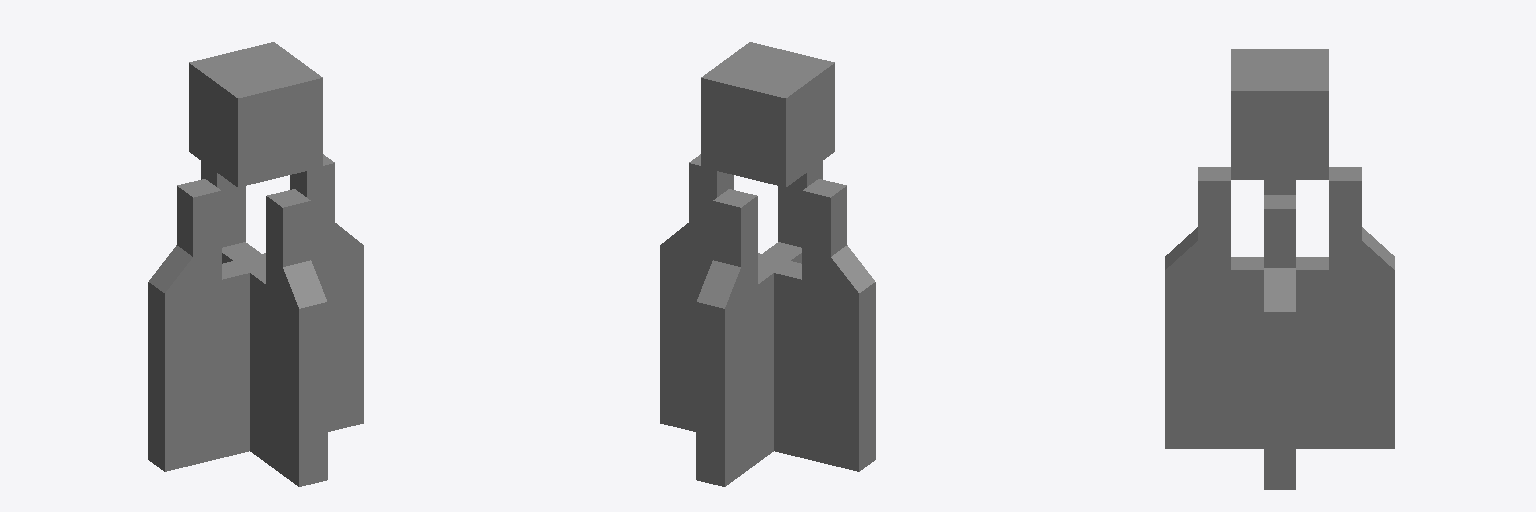
File: missile_head_ender.obj
The picture shows the model from 3 angles: view 1: azimuth 30°, elevation 25°; view 2: azimuth 150°, elevation 25°; view 3: azimuth 270°, elevation 25°; orthographic projection.
Parts seen in each view (by area): view 1: Component_59, group_6, Component_60, Component_61; view 2: Component_59, group_6, Component_60, Component_61; view 3: Component_59, group_6, Component_60, Component_61.
Boxes of the visible parts, <box> form: Component_59: <box>148,242,363,486</box>; group_6: <box>189,42,322,187</box>; Component_60: <box>177,154,334,291</box>; Component_61: <box>149,223,362,320</box>; Component_59: <box>660,242,875,486</box>; group_6: <box>701,42,834,187</box>; Component_60: <box>689,154,846,291</box>; Component_61: <box>661,223,874,320</box>; Component_59: <box>1165,257,1394,489</box>; group_6: <box>1231,49,1328,179</box>; Component_60: <box>1198,167,1361,269</box>; Component_61: <box>1165,227,1394,311</box>.
Size of the model in its own units: 88.19 by 157 by 88.19.